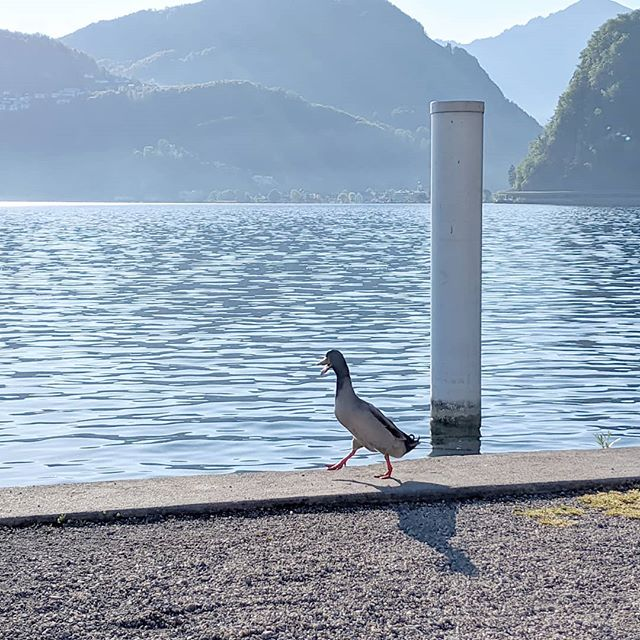animal: (309, 344, 426, 494)
mountain: (125, 62, 433, 163)
sea: (1, 207, 639, 493)
